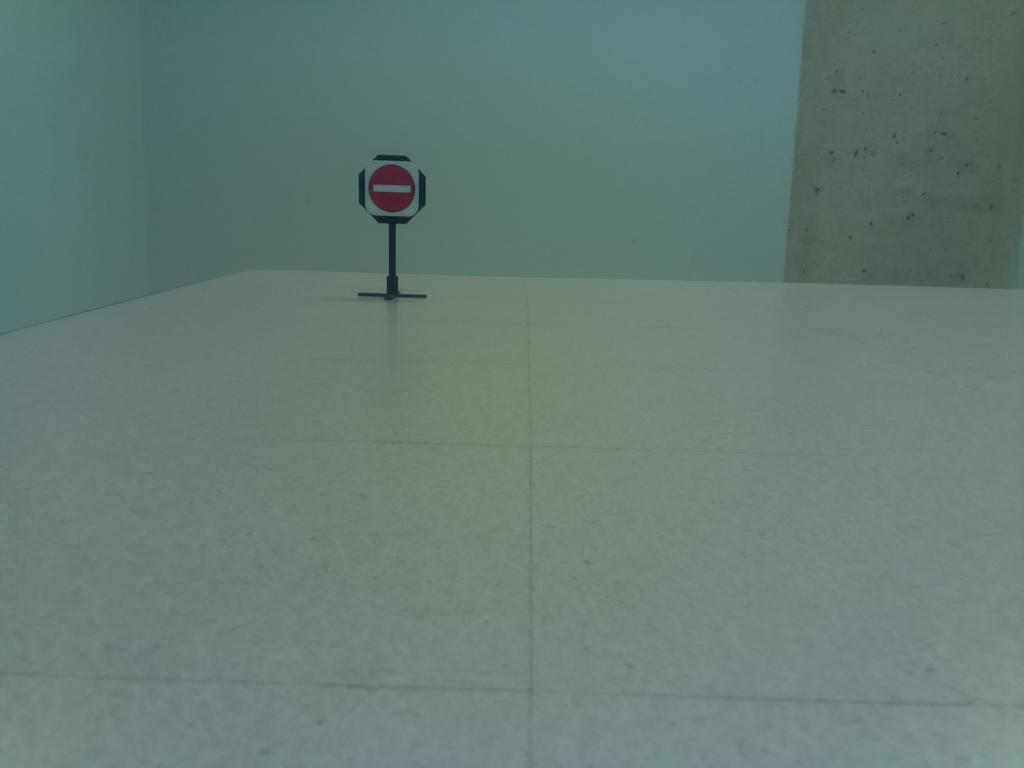sign_noentry: (351, 146, 432, 231)
